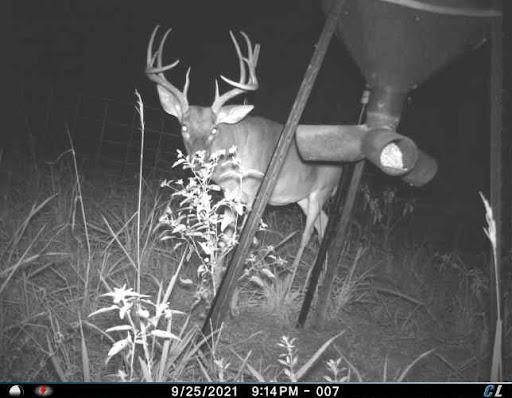Deer: (140, 17, 356, 315)
